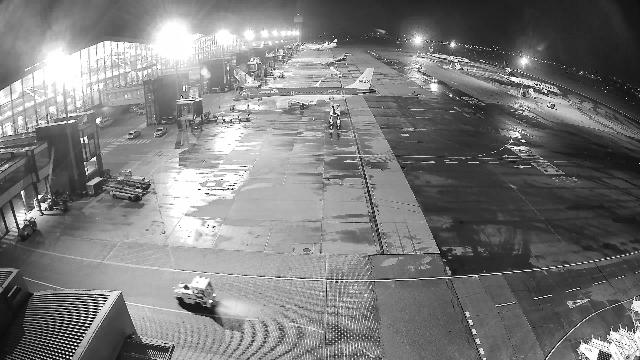Aircraft: (232, 67, 377, 108), (497, 61, 560, 94), (426, 46, 470, 63), (287, 53, 352, 64), (300, 39, 337, 49)
Airport_Tractor: (173, 276, 216, 308), (19, 216, 37, 240)
Baggage_Trolley: (86, 177, 104, 195), (52, 199, 68, 213), (238, 112, 251, 123), (222, 114, 234, 122)
Conveyor_Belt: (103, 176, 146, 201), (111, 169, 151, 190), (329, 103, 340, 116)
Ground_Crew: (257, 101, 260, 108), (330, 101, 333, 105)
